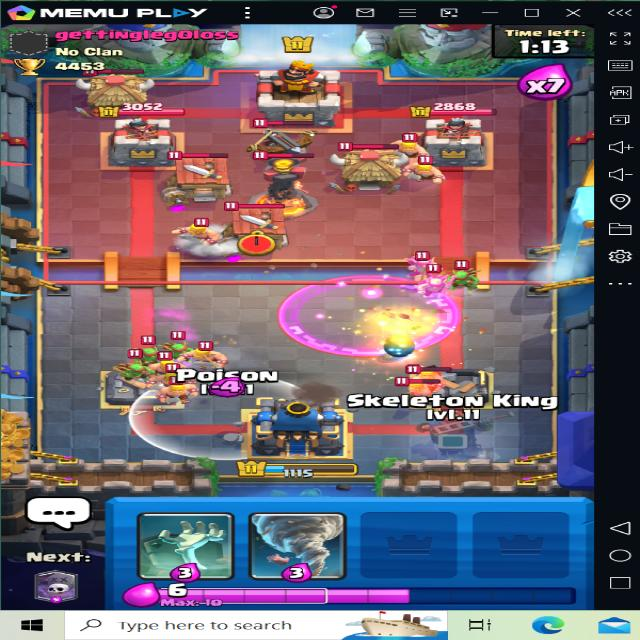barbarian: (186, 344, 237, 371), (175, 216, 219, 246), (395, 374, 445, 398), (389, 131, 435, 157), (158, 379, 205, 404), (147, 367, 200, 389), (408, 162, 450, 186), (403, 365, 457, 383)
barbarian-hut: (218, 200, 296, 248), (162, 148, 235, 199)
goblin-hut: (330, 140, 412, 196), (77, 64, 150, 113)
inferno-tower: (253, 149, 319, 215)
rage: (274, 266, 462, 354)
spear-goblin: (111, 350, 149, 377), (443, 262, 479, 290), (422, 263, 453, 293), (403, 247, 435, 275), (133, 340, 171, 362), (167, 336, 198, 359)
x-bow: (234, 112, 322, 168)
